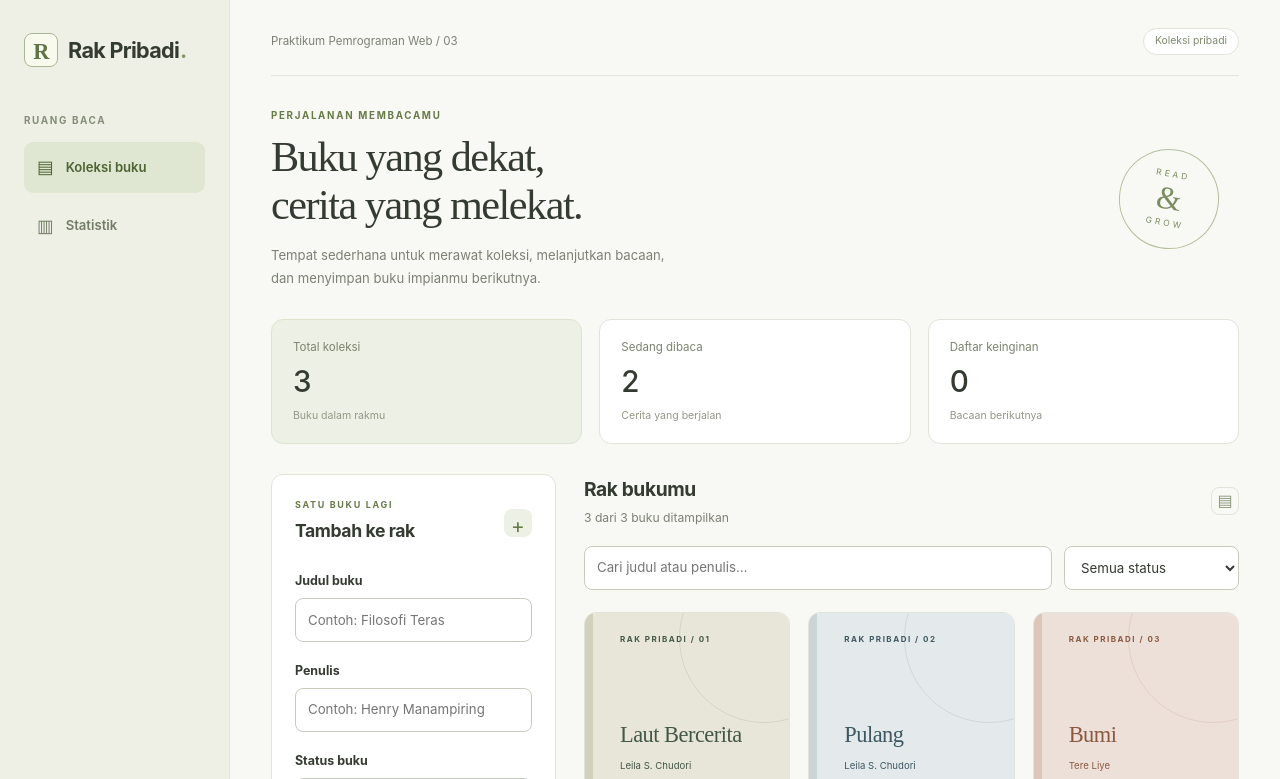
Scenario: menggabungkan pencarian penulis case-insensitive dan filter status
In the search field labelled "Cari judul atau penulis": (818, 568) [584,546,1052,590], type "LEILA"
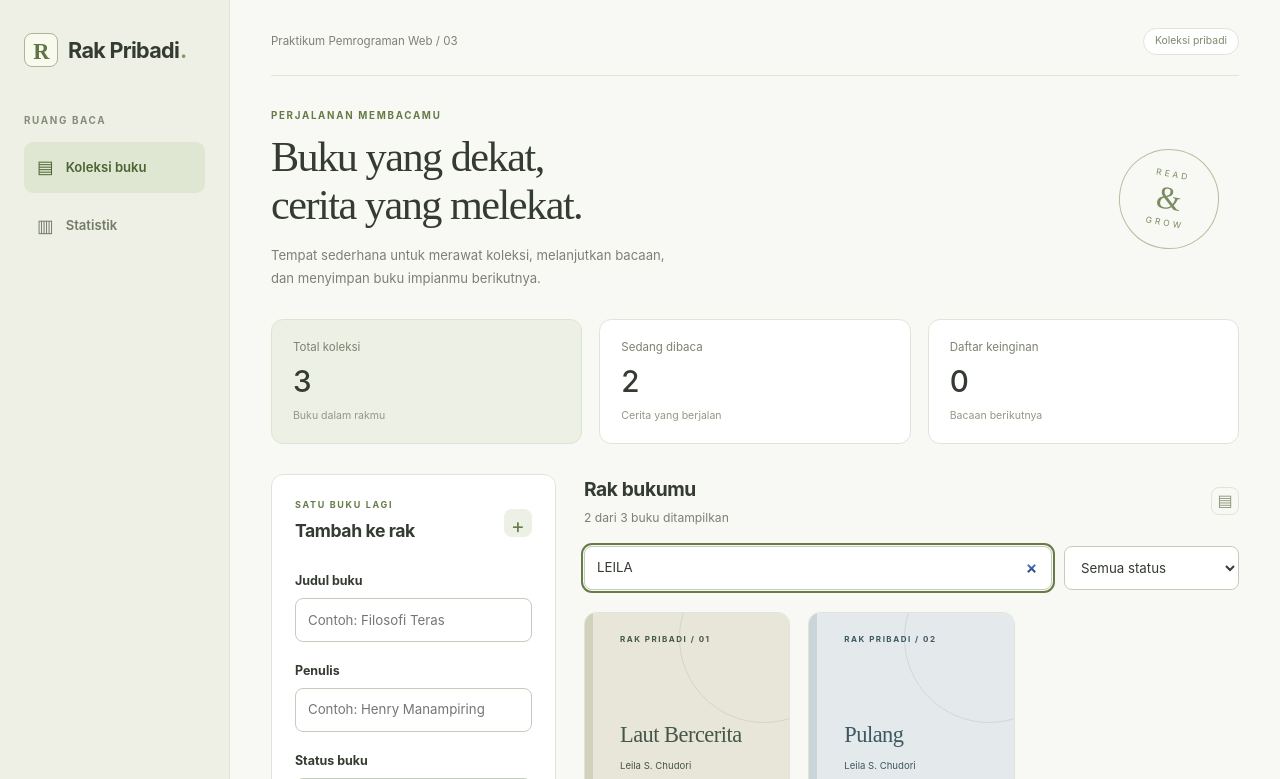
Select "Sedang dibaca" in the dropdown named "Filter status buku": (1152, 568) [1064,546,1239,590]
(page scrolled)
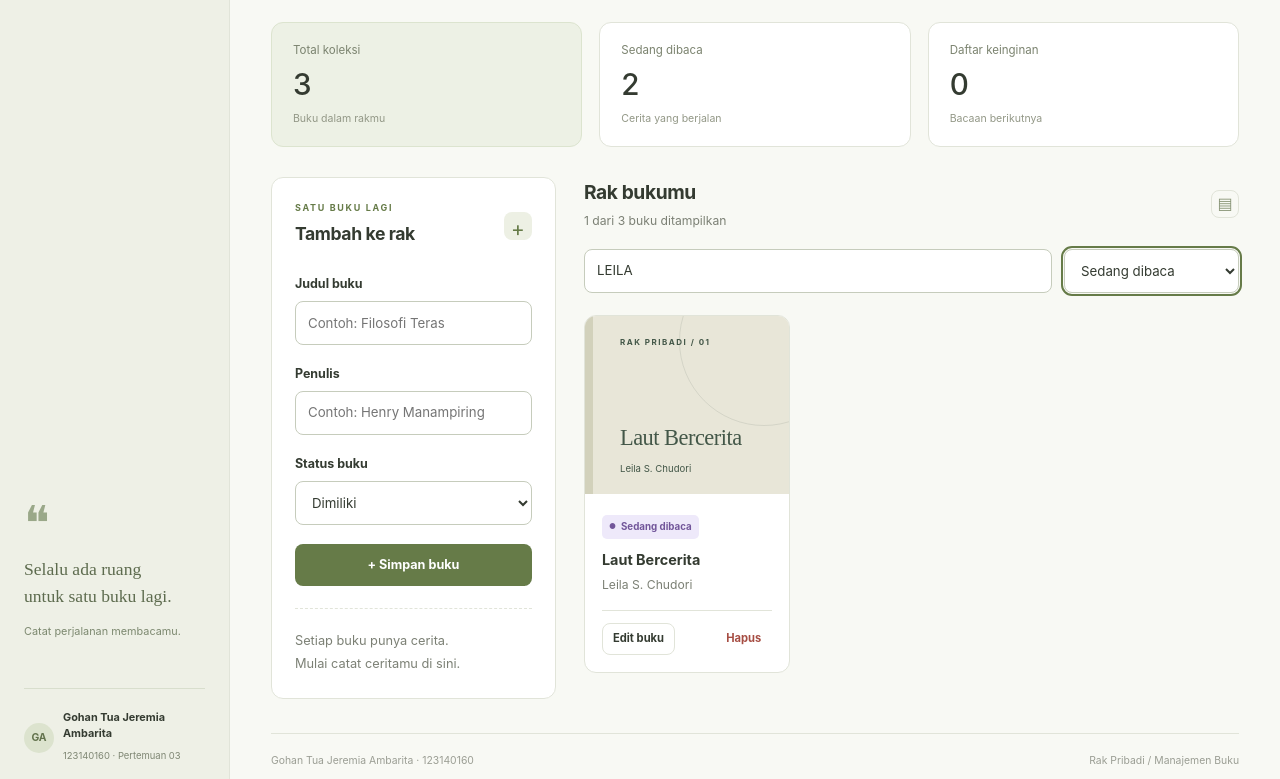
Expected: the heading "Laut Bercerita" is shown, [602,551,700,568]
Now the text "Pulang" is gone
